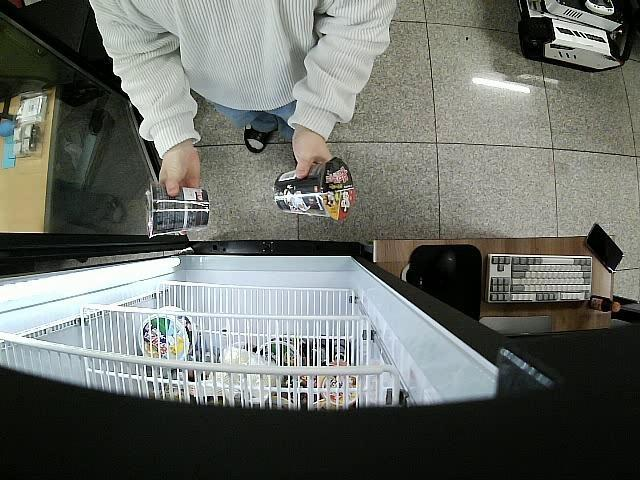08_buldak_S: (274, 154, 356, 222), (145, 180, 212, 234)
